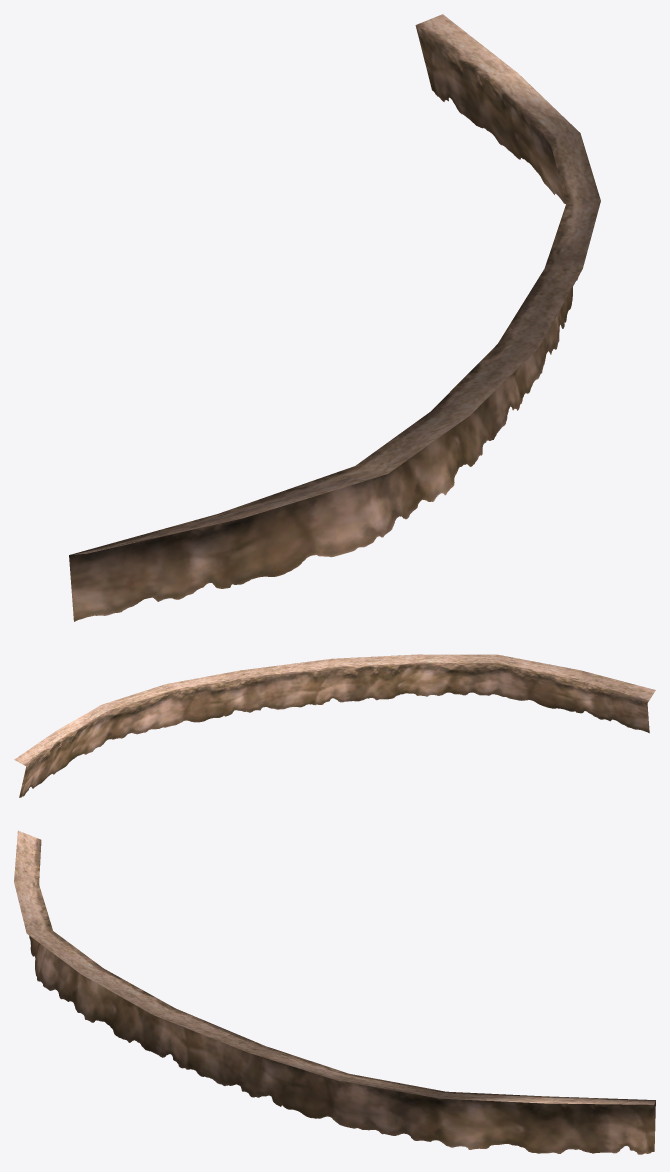
The model's file is EKH_ENTRANCE_PS_EN_EDGEGRAB48474039.fbx.
3 views of the same model, one above another, from view 1: azimuth 30°, elevation 25°; view 2: azimuth 150°, elevation 25°; view 3: azimuth 270°, elevation 25° (orthographic). The views are drawn at different scales.
Visible parts, largest first — view 1: EKH_ENTRANCE_PS_EN_EDGEGRAB48474039; view 2: EKH_ENTRANCE_PS_EN_EDGEGRAB48474039; view 3: EKH_ENTRANCE_PS_EN_EDGEGRAB48474039.
Part boxes in pixels (x1,y1,x2,y2): EKH_ENTRANCE_PS_EN_EDGEGRAB48474039: (69, 14, 600, 621); EKH_ENTRANCE_PS_EN_EDGEGRAB48474039: (14, 654, 655, 797); EKH_ENTRANCE_PS_EN_EDGEGRAB48474039: (14, 830, 655, 1154).
Bounding box in the file's own units: 48091 × 4543 × 47518.
1 material, 1 textured.
